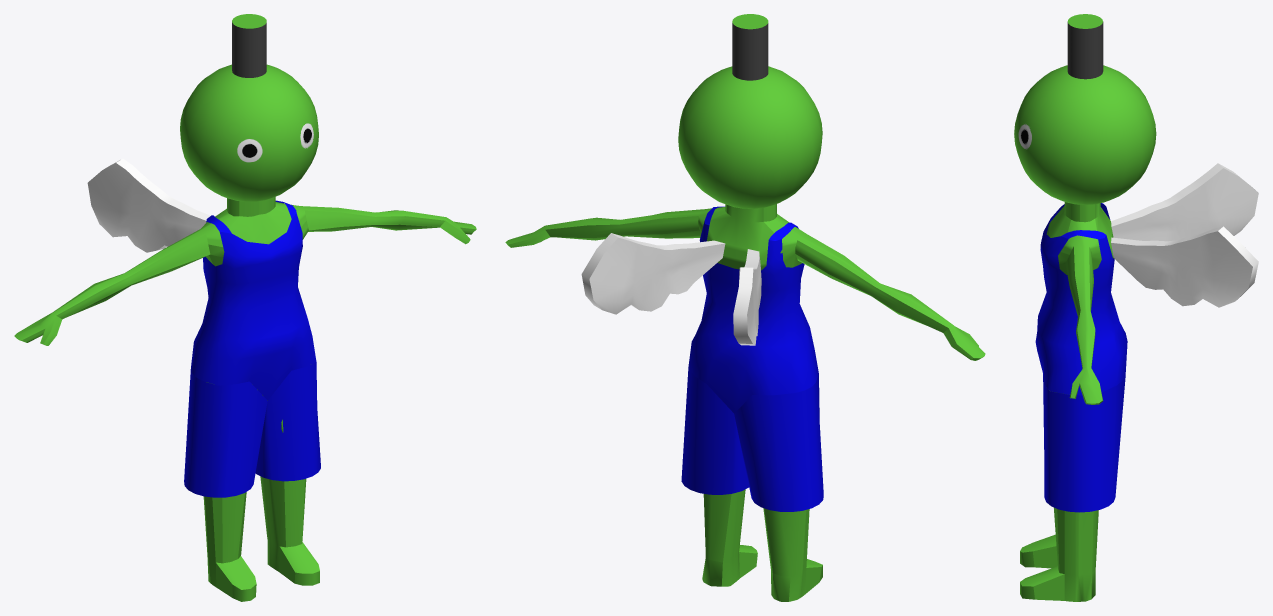
The picture shows the model from 3 angles, left to right: view 1: azimuth 30°, elevation 25°; view 2: azimuth 150°, elevation 25°; view 3: azimuth 270°, elevation 25°; orthographic projection. The views are drawn at different scales.
Visible parts, largest first — view 1: pCube1, pCylinder2, pSphere1, pCylinder4, pCylinder3, pCylinder1; view 2: pCube1, pSphere1, pCylinder2, pCylinder4, pCylinder3, pCylinder1; view 3: pCube1, pSphere1, pCylinder2, pCylinder3, pCylinder1.
Part boxes in pixels (<box>): pCube1: <box>14,159,476,601</box>; pCylinder2: <box>191,200,316,400</box>; pSphere1: <box>180,64,318,201</box>; pCylinder4: <box>184,369,267,497</box>; pCylinder3: <box>255,362,320,481</box>; pCylinder1: <box>232,14,266,77</box>; pCube1: <box>505,204,985,601</box>; pSphere1: <box>678,66,822,208</box>; pCylinder2: <box>688,206,818,413</box>; pCylinder4: <box>734,374,823,511</box>; pCylinder3: <box>681,367,748,494</box>; pCylinder1: <box>732,14,768,80</box>; pCube1: <box>1020,163,1258,601</box>; pSphere1: <box>1014,65,1156,204</box>; pCylinder2: <box>1035,203,1127,395</box>; pCylinder3: <box>1044,379,1125,512</box>; pCylinder1: <box>1067,14,1103,79</box>.
Bounding box in the file's own units: 15.15 × 17.31 × 6.88.
4 materials, 4 textured.
